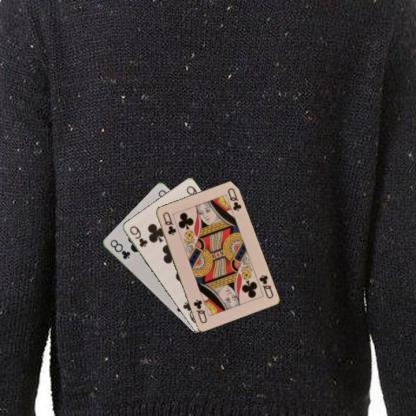8c: (108, 237, 131, 260)
9c: (126, 223, 148, 248)
Qc: (256, 272, 274, 300), (160, 209, 178, 236)
